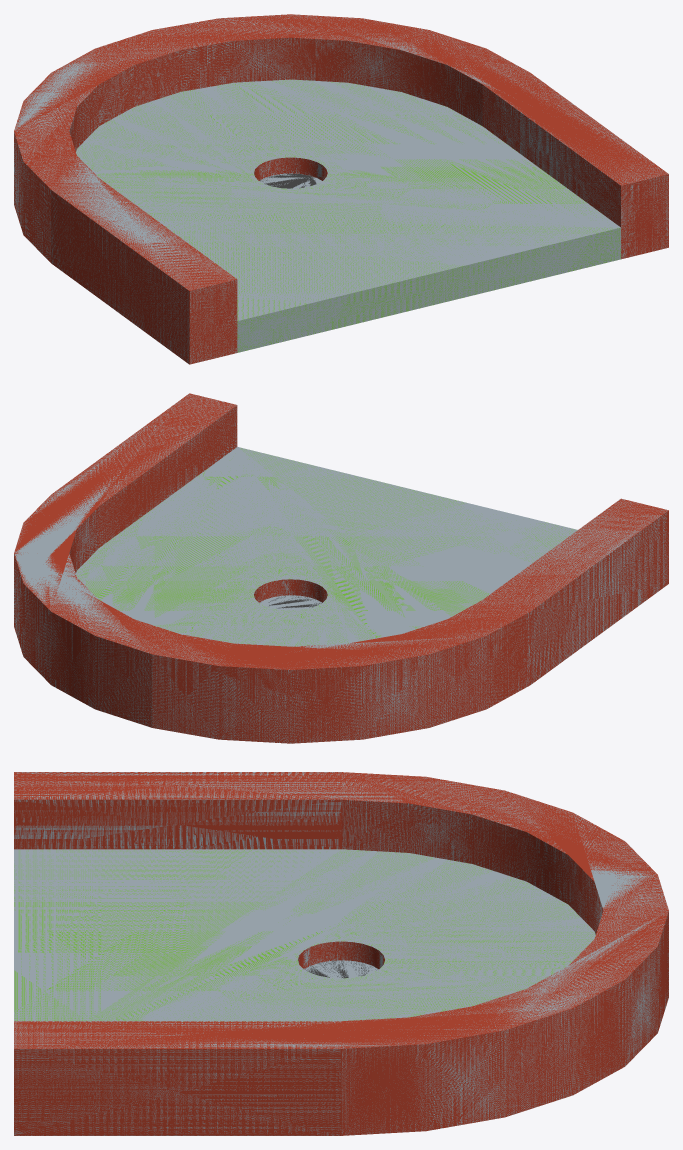
The model's file is Hole_round_01.obj.
The picture shows the model from 3 angles, top to bottom: view 1: azimuth 30°, elevation 25°; view 2: azimuth 150°, elevation 25°; view 3: azimuth 270°, elevation 25°; orthographic projection. The views are drawn at different scales.
Visible parts, largest first — view 1: Mesh1 Hole_round Model; view 2: Mesh1 Hole_round Model; view 3: Mesh1 Hole_round Model.
Part boxes in pixels (x1,y1,x2,y2): Mesh1 Hole_round Model: (14, 14, 668, 364); Mesh1 Hole_round Model: (14, 393, 668, 743); Mesh1 Hole_round Model: (14, 772, 668, 1135).
Size of the model in its own units: 3 by 0.44 by 3.
